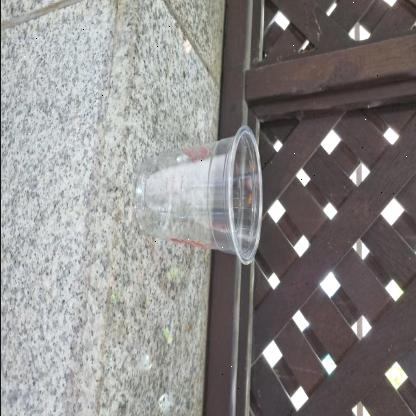Others: (129, 119, 267, 276)
